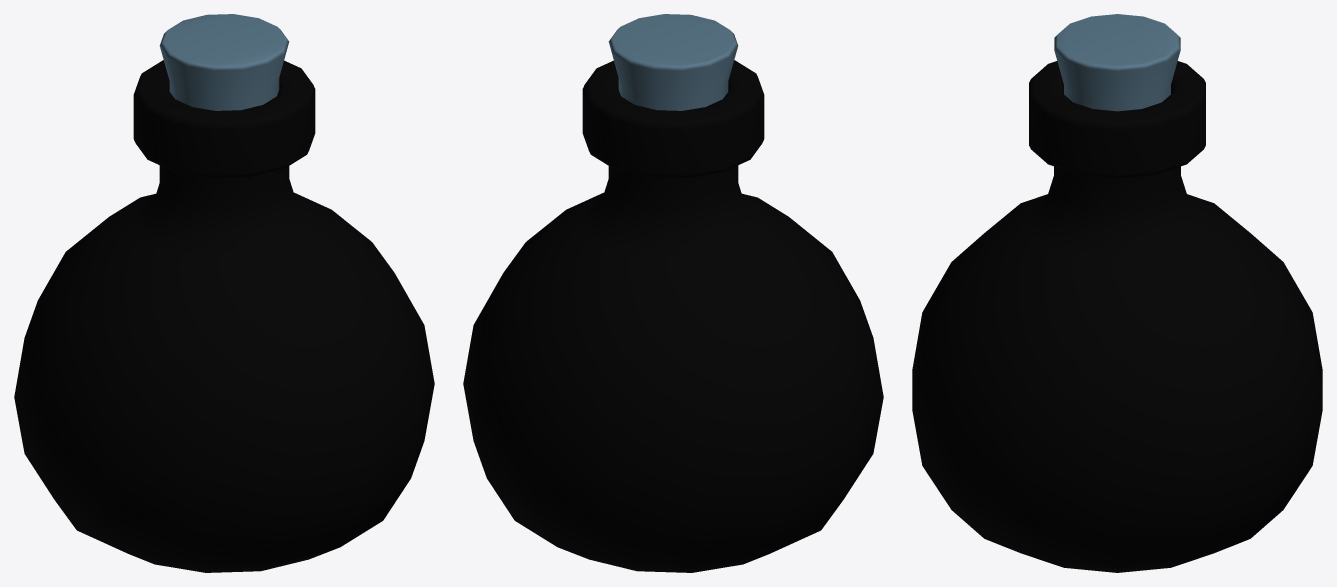
The model's file is BottlePotion_03.fbx.
3 views of the same model, side by side, from view 1: azimuth 30°, elevation 25°; view 2: azimuth 150°, elevation 25°; view 3: azimuth 270°, elevation 25° (orthographic).
Visible parts, largest first — view 1: BottlePotion_03, Bouchon; view 2: BottlePotion_03, Bouchon; view 3: BottlePotion_03, Bouchon.
Boxes of the visible parts, x1=… form: BottlePotion_03: x1=14, y1=60, x2=434, y2=572; Bouchon: x1=159, y1=14, x2=289, y2=110; BottlePotion_03: x1=463, y1=60, x2=883, y2=572; Bouchon: x1=608, y1=14, x2=738, y2=110; BottlePotion_03: x1=912, y1=61, x2=1322, y2=572; Bouchon: x1=1054, y1=14, x2=1180, y2=111.
Bounding box in the file's own units: 0.1561 × 0.2001 × 0.1522.
